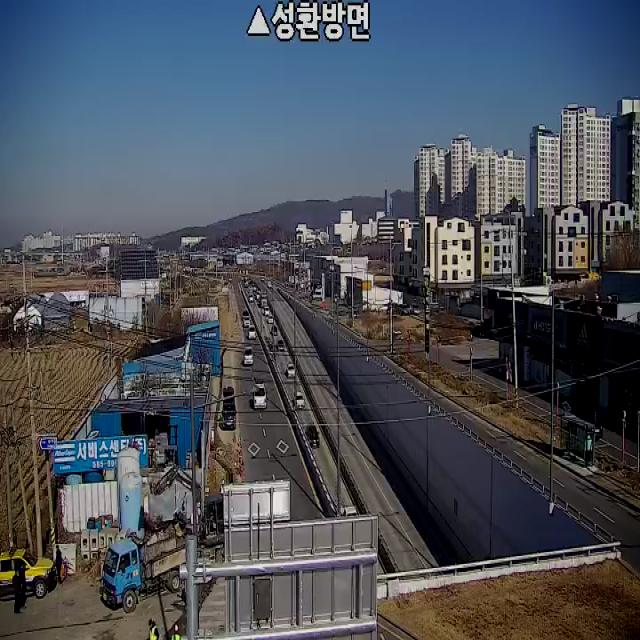Car: (0, 546, 57, 601), (572, 414, 602, 442), (306, 422, 320, 448), (293, 392, 305, 409), (342, 506, 358, 515), (243, 310, 251, 327), (287, 362, 295, 378), (276, 339, 285, 351), (249, 325, 256, 339), (271, 324, 278, 336), (264, 306, 270, 315), (268, 314, 273, 323)
Truck: (100, 522, 187, 613), (222, 385, 235, 429), (253, 382, 267, 410), (244, 346, 253, 365), (259, 291, 267, 307)
